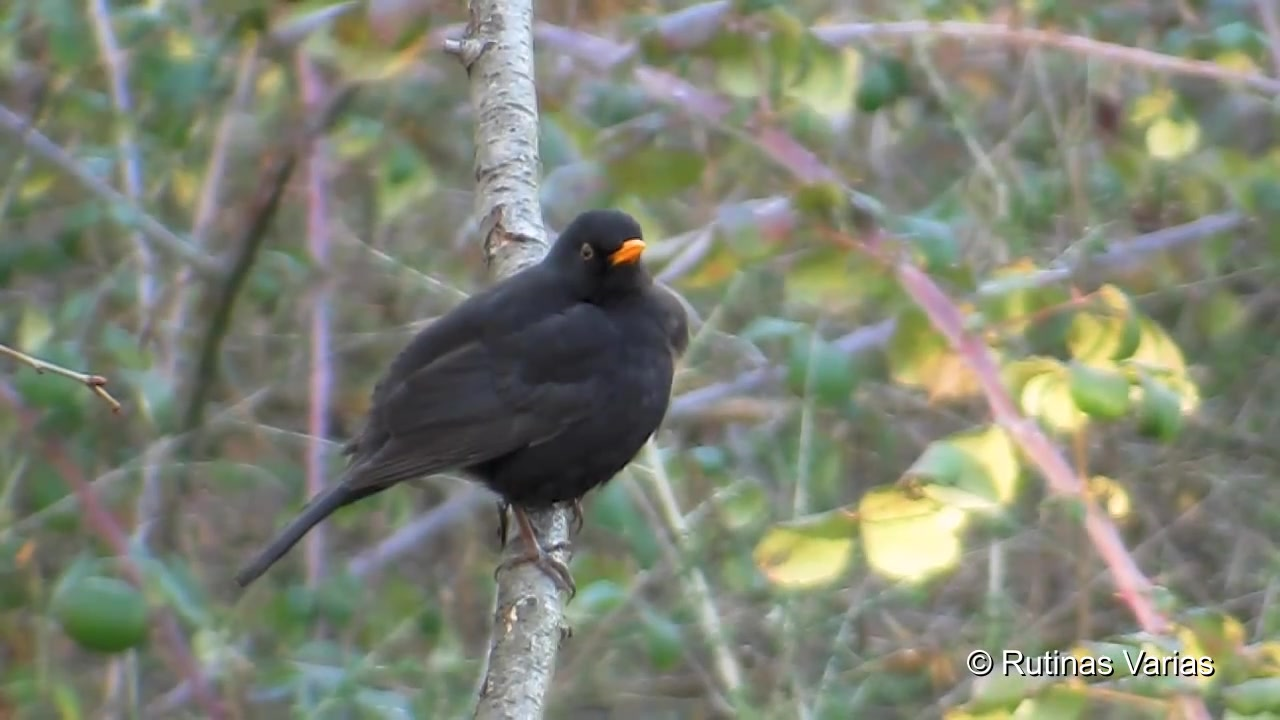bird: (233, 208, 691, 610)
